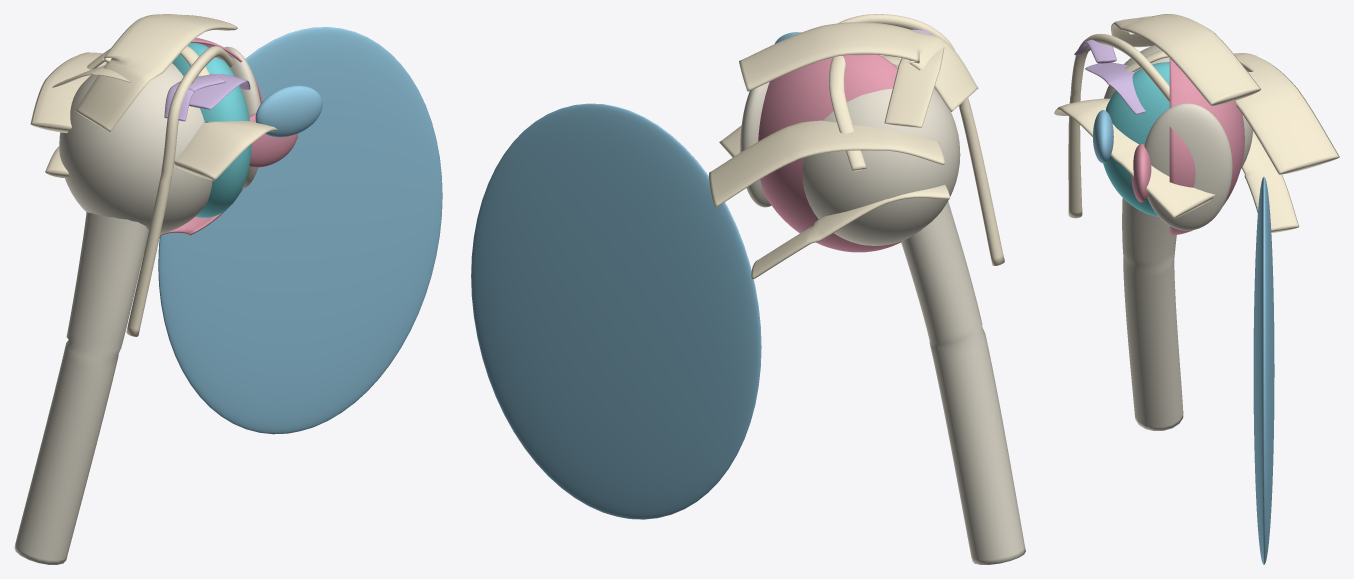
The model's file is shoulder-higgsfield-source.glb.
3 renders of one model, left to right at view 1: azimuth 30°, elevation 25°; view 2: azimuth 150°, elevation 25°; view 3: azimuth 270°, elevation 25°, orthographic. The views are drawn at different scales.
Parts seen in each view (by area): view 1: interface-escapulotoracica__HG-r, contexto-diafise-umeral__HG-r, contexto-cabeca-umeral__HG-r, tendao-supraespinal__HG-r, tendao-cabeca-longa-biceps__HG-r, cartilagem-cabeca-umeral__HG-r, tendao-subescapular__HG-r, tendao-infraespinal__HG-r, bolsa-subcoracoidea__HG-r, recesso-subescapular__HG-r, contexto-glenoide__HG-r, intervalo-rotador__HG-r (+2 smaller); view 2: interface-escapulotoracica__HG-r, contexto-diafise-umeral__HG-r, contexto-cabeca-umeral__HG-r, membrana-sinovial-ombro__HG-r, tendao-supraespinal__HG-r, tendao-infraespinal__HG-r, tendao-cabeca-longa-biceps__HG-r, crescente-rotador__HG-r, tendao-redondo-menor__HG-r, cabo-rotador__HG-r, contexto-glenoide__HG-r; view 3: contexto-diafise-umeral__HG-r, interface-escapulotoracica__HG-r, tendao-infraespinal__HG-r, tendao-supraespinal__HG-r, contexto-glenoide__HG-r, membrana-sinovial-ombro__HG-r, cartilagem-cabeca-umeral__HG-r, tendao-subescapular__HG-r, tendao-cabeca-longa-biceps__HG-r, tendao-redondo-menor__HG-r, intervalo-rotador__HG-r, bolsa-subcoracoidea__HG-r (+3 smaller).
Boxes of the visible parts, box(x1,y1,x2,y2) form: interface-escapulotoracica__HG-r: box(158, 27, 442, 434); contexto-diafise-umeral__HG-r: box(14, 212, 148, 564); contexto-cabeca-umeral__HG-r: box(59, 63, 212, 234); tendao-supraespinal__HG-r: box(75, 14, 237, 131); tendao-cabeca-longa-biceps__HG-r: box(126, 46, 233, 336); cartilagem-cabeca-umeral__HG-r: box(172, 43, 251, 217); tendao-subescapular__HG-r: box(174, 121, 298, 180); tendao-infraespinal__HG-r: box(30, 52, 106, 133); bolsa-subcoracoidea__HG-r: box(255, 85, 322, 137); recesso-subescapular__HG-r: box(249, 113, 297, 167); contexto-glenoide__HG-r: box(224, 46, 260, 189); intervalo-rotador__HG-r: box(189, 74, 250, 109); interface-escapulotoracica__HG-r: box(471, 103, 761, 519); contexto-diafise-umeral__HG-r: box(901, 201, 1025, 564); contexto-cabeca-umeral__HG-r: box(802, 64, 960, 245); membrana-sinovial-ombro__HG-r: box(758, 54, 901, 252); tendao-supraespinal__HG-r: box(739, 22, 978, 112); tendao-infraespinal__HG-r: box(709, 120, 944, 207); tendao-cabeca-longa-biceps__HG-r: box(838, 14, 1004, 265); crescente-rotador__HG-r: box(884, 47, 944, 127); tendao-redondo-menor__HG-r: box(751, 184, 949, 279); cabo-rotador__HG-r: box(829, 55, 866, 171); contexto-glenoide__HG-r: box(740, 82, 771, 207); contexto-diafise-umeral__HG-r: box(1122, 198, 1183, 430); interface-escapulotoracica__HG-r: box(1253, 177, 1274, 564); tendao-infraespinal__HG-r: box(1234, 53, 1339, 174); tendao-supraespinal__HG-r: box(1111, 14, 1260, 105); contexto-glenoide__HG-r: box(1144, 103, 1232, 230); membrana-sinovial-ombro__HG-r: box(1169, 58, 1244, 235); cartilagem-cabeca-umeral__HG-r: box(1103, 62, 1169, 216); tendao-subescapular__HG-r: box(1054, 98, 1215, 218); tendao-cabeca-longa-biceps__HG-r: box(1068, 33, 1169, 218); tendao-redondo-menor__HG-r: box(1242, 131, 1299, 232); intervalo-rotador__HG-r: box(1085, 62, 1145, 114); bolsa-subcoracoidea__HG-r: box(1093, 110, 1113, 163).
Size of the model in its own units: 0.1457 by 0.1424 by 0.0819.
